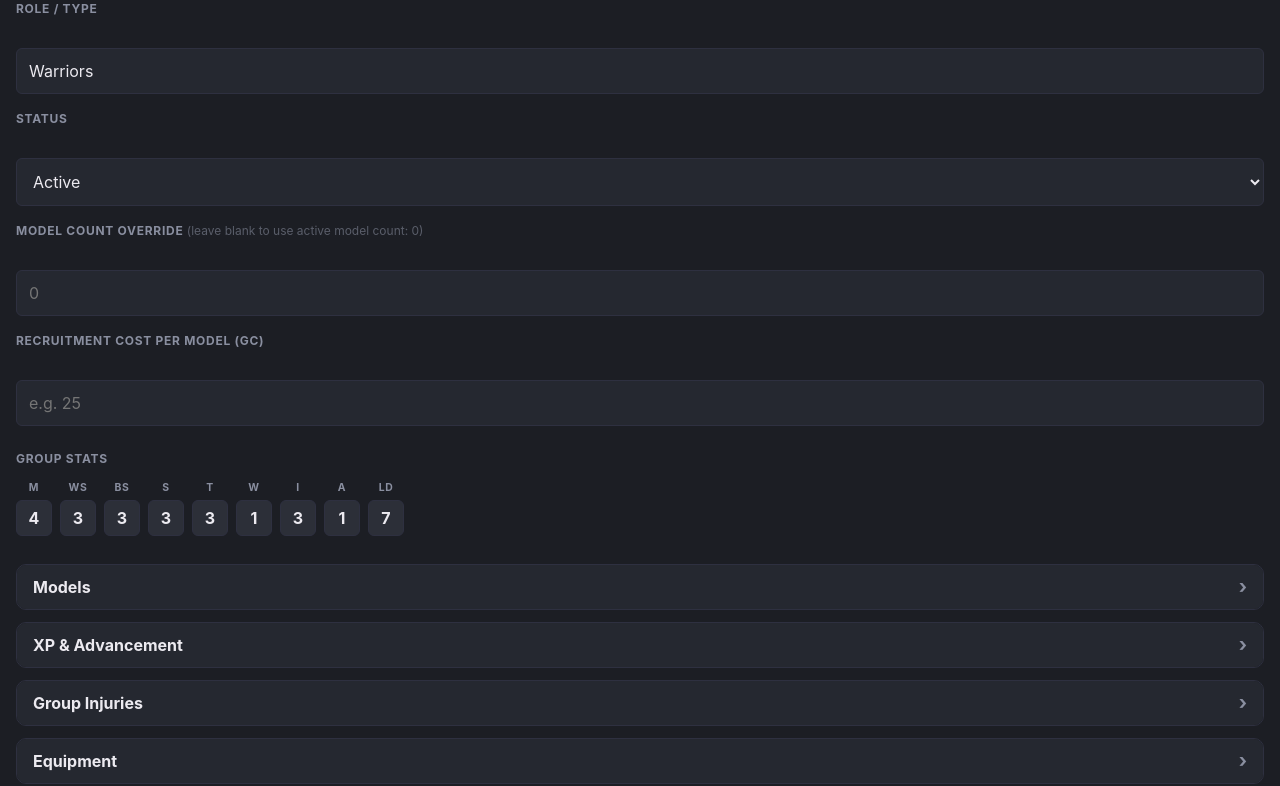
Test case: HenchmanGroupDetailPage › opens XP & Advancement panel
The image size is (1280, 786).
(page scrolled)
Click the button "XP & Advancement ›" at (108, 645), box [17,623,1263,667]
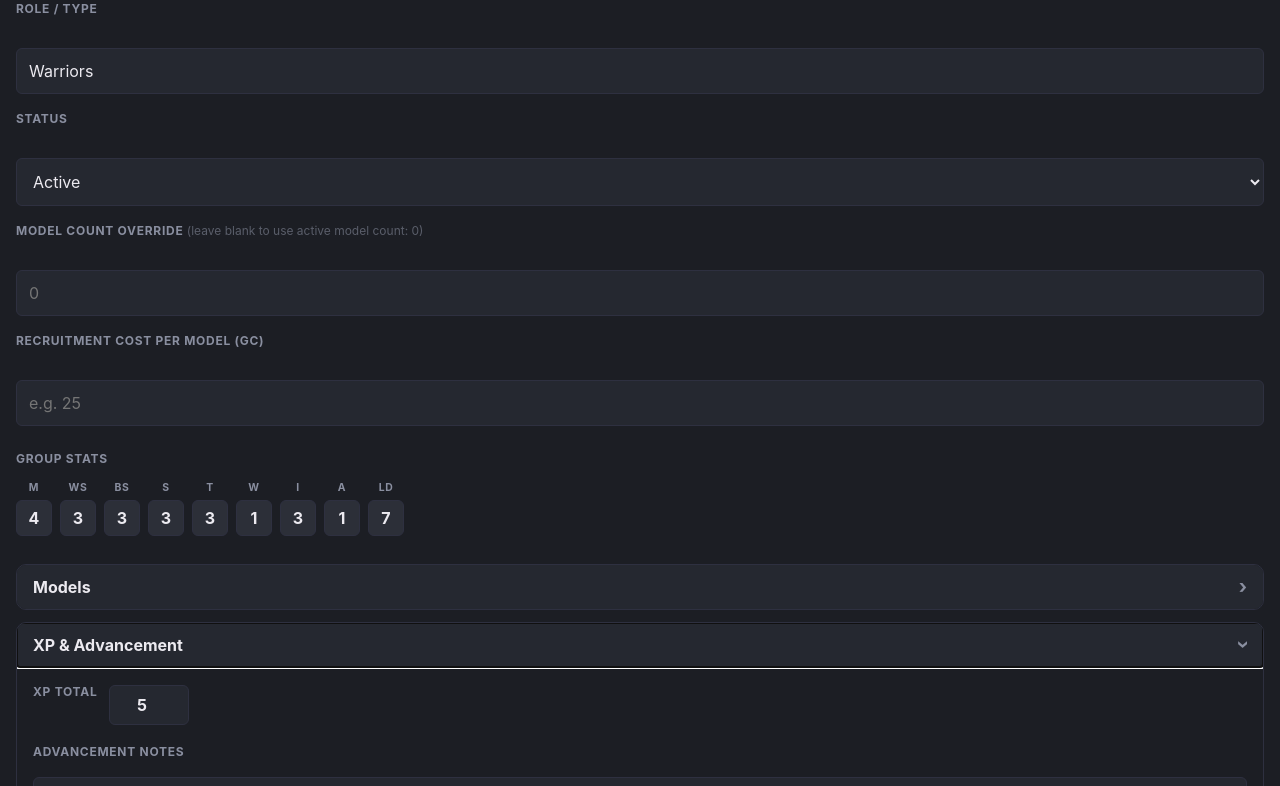
Result: the number field labelled "XP Total" is shown at [109,685,189,725]
